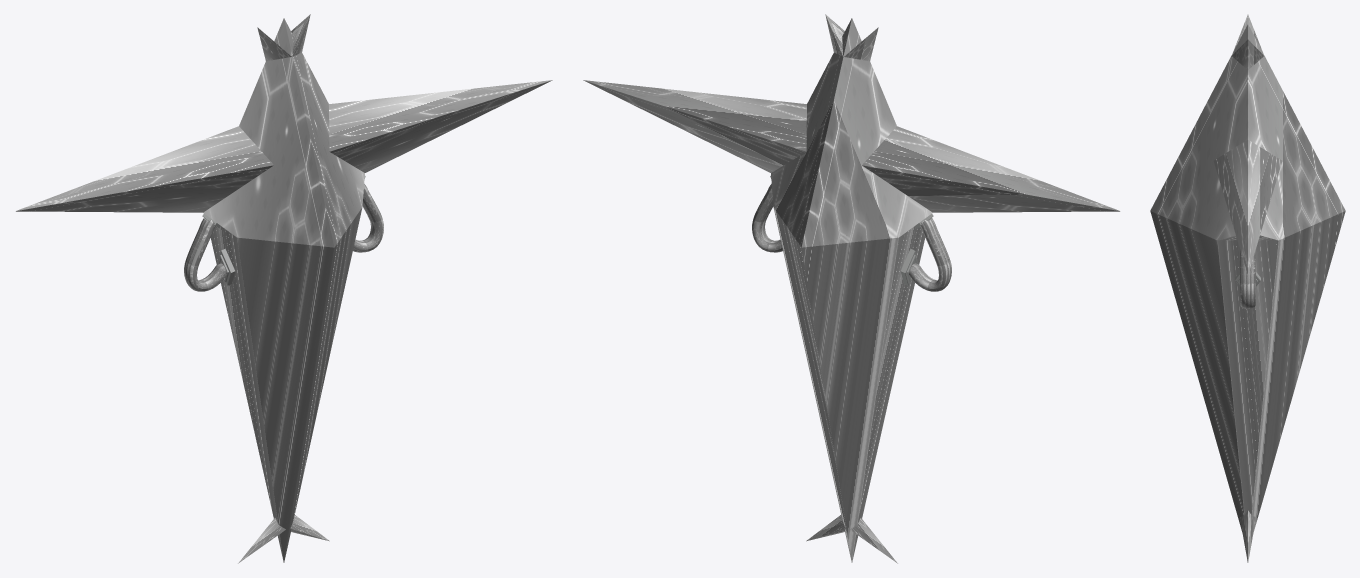
The model's file is Carrier.fbx.
3 views of the same model, side by side, from view 1: azimuth 30°, elevation 25°; view 2: azimuth 150°, elevation 25°; view 3: azimuth 270°, elevation 25° (orthographic). The views are drawn at different scales.
Parts seen in each view (by area): view 1: body; view 2: body; view 3: body.
Boxes of the visible parts, left/top/right/bottom form: body: left=15, top=14, right=552, bottom=563; body: left=583, top=14, right=1120, bottom=563; body: left=1150, top=14, right=1345, bottom=562.
Size of the model in its own units: 17.52 by 16.95 by 5.68.
Materials: 2 (1 with a texture image).
